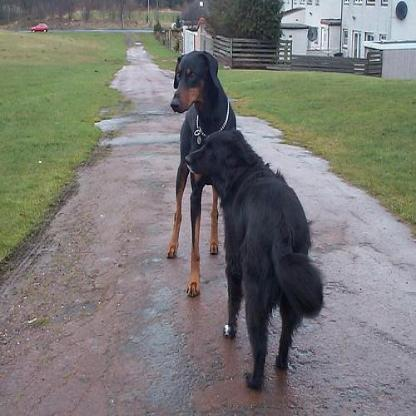Doberman: (164, 49, 237, 297)
